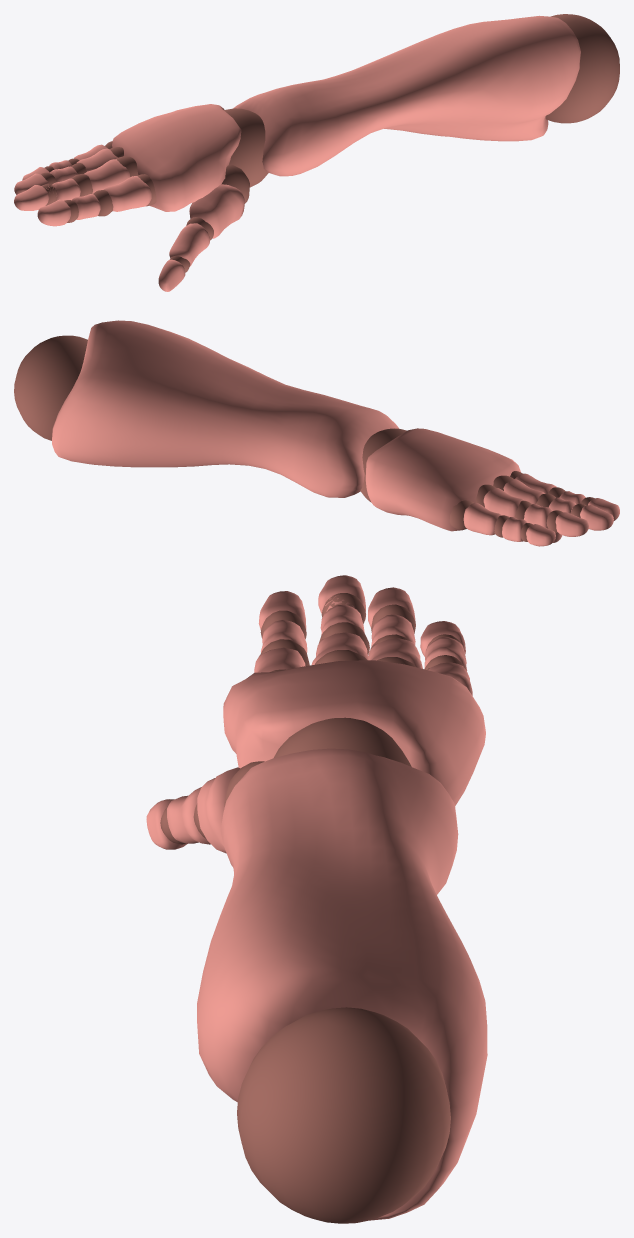
File: holeHand.glb
3 renders of one model, top to bottom at view 1: azimuth 30°, elevation 25°; view 2: azimuth 150°, elevation 25°; view 3: azimuth 270°, elevation 25°, orthographic. The views are drawn at different scales.
Parts seen in each view (by area): view 1: Beta_Surface.014, Beta_Joints.001, Beta_Joints.008; view 2: Beta_Surface.014, Beta_Joints.008, Beta_Joints.001; view 3: Beta_Surface.014, Beta_Joints.008, Beta_Joints.001.
Part boxes in pixels (x1=…): Beta_Surface.014: x1=14, y1=15, x2=580, y2=291; Beta_Joints.001: x1=40, y1=108, x2=268, y2=272; Beta_Joints.008: x1=545, y1=14, x2=619, y2=123; Beta_Surface.014: x1=52, y1=320, x2=619, y2=546; Beta_Joints.008: x1=14, y1=335, x2=87, y2=440; Beta_Joints.001: x1=360, y1=428, x2=594, y2=541; Beta_Surface.014: x1=146, y1=575, x2=487, y2=1220; Beta_Joints.008: x1=237, y1=1007, x2=450, y2=1223; Beta_Joints.001: x1=160, y1=593, x2=466, y2=844.
Size of the model in its own units: 51.27 by 11.94 by 12.81.
